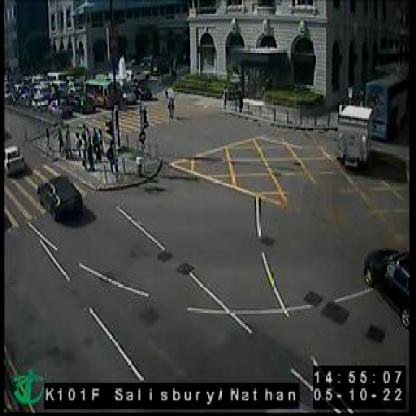Bus: (364, 72, 410, 138)
Car: (364, 237, 408, 328), (36, 179, 84, 220), (48, 95, 72, 120), (4, 144, 26, 170), (70, 92, 92, 114), (118, 81, 134, 104), (135, 78, 150, 101)
Minibus: (85, 80, 117, 107)
Truck: (336, 106, 370, 166)
